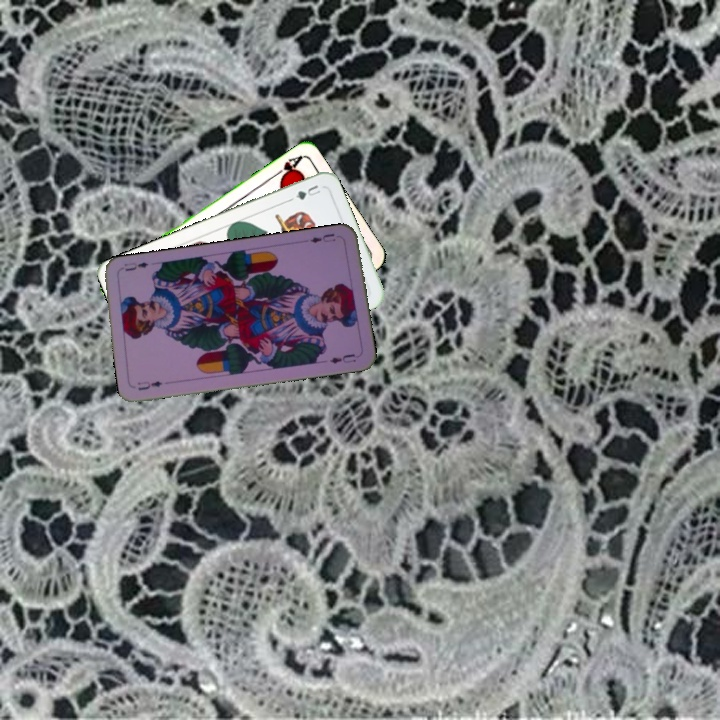EU: (306, 230, 338, 246), (133, 377, 165, 393)
GU: (291, 181, 323, 202)
HA: (268, 151, 305, 182)
